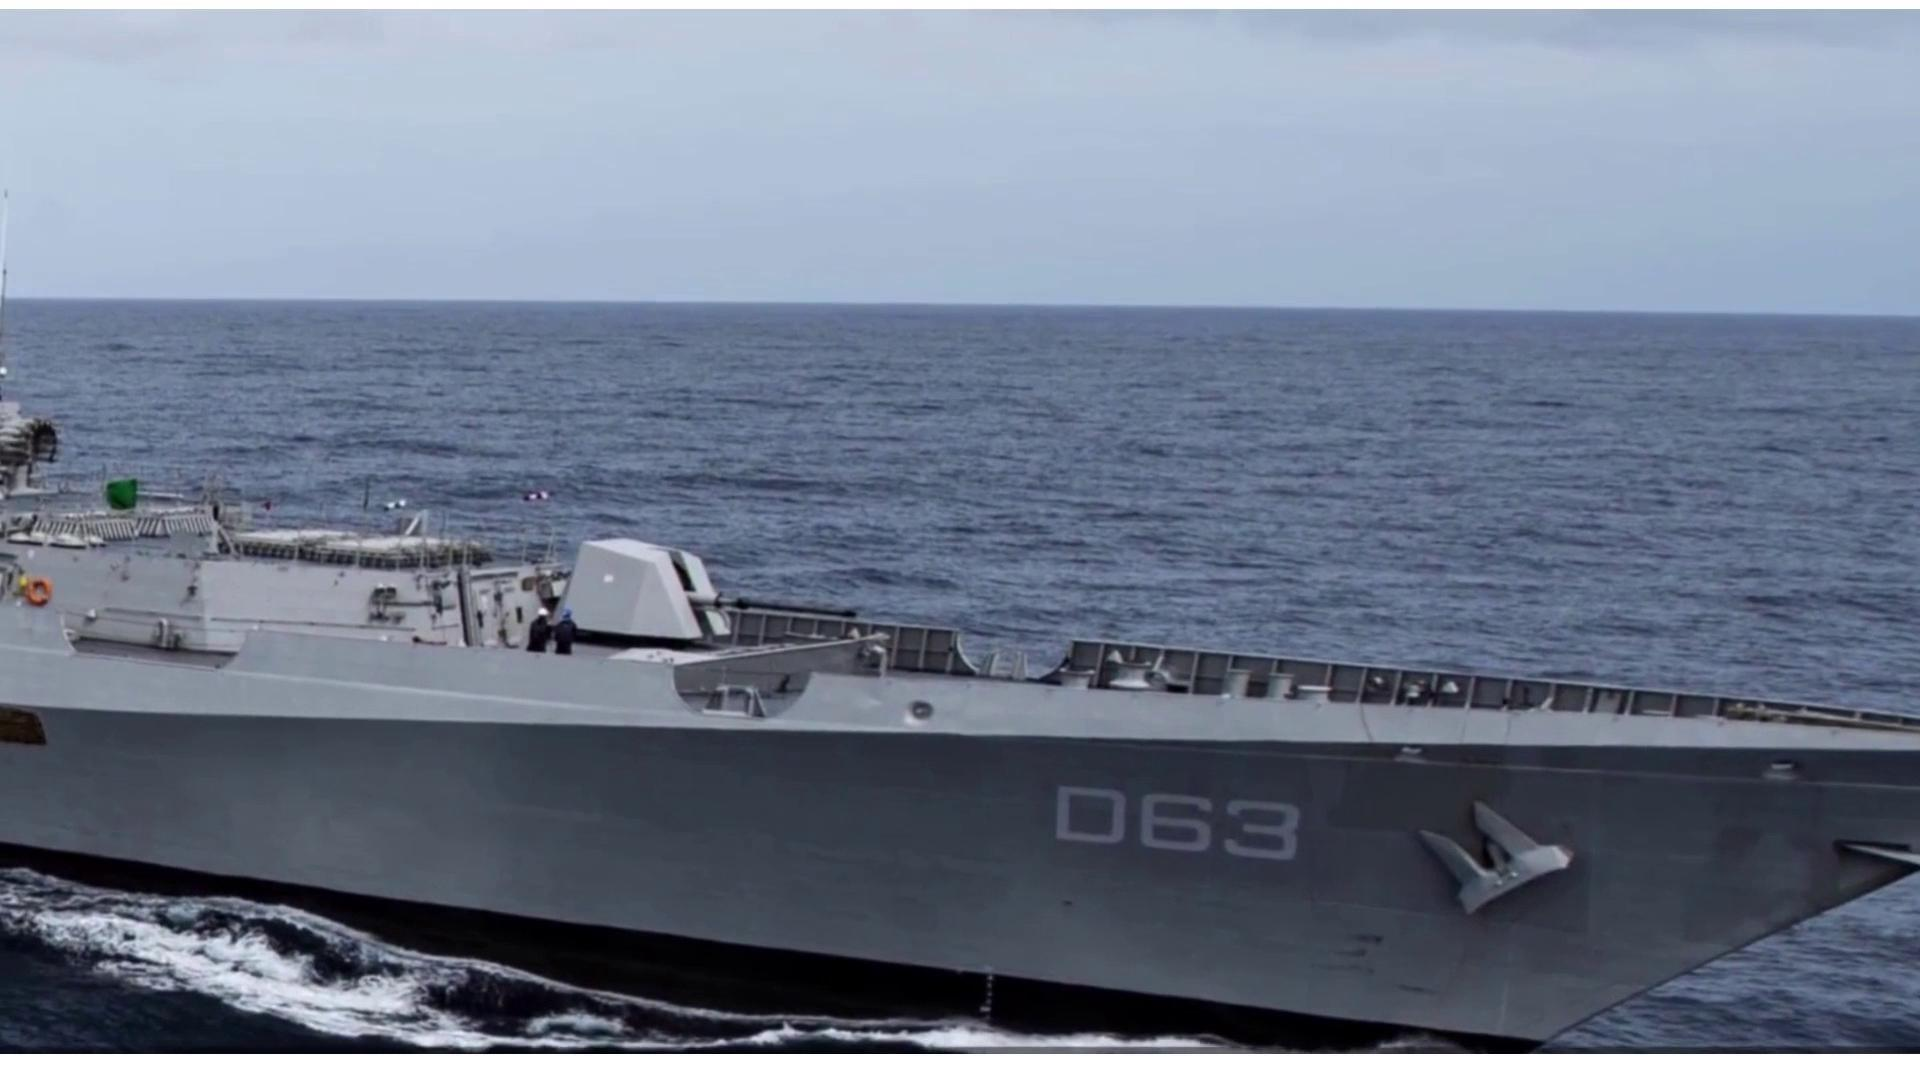OCR: (1046, 780, 1310, 873)
